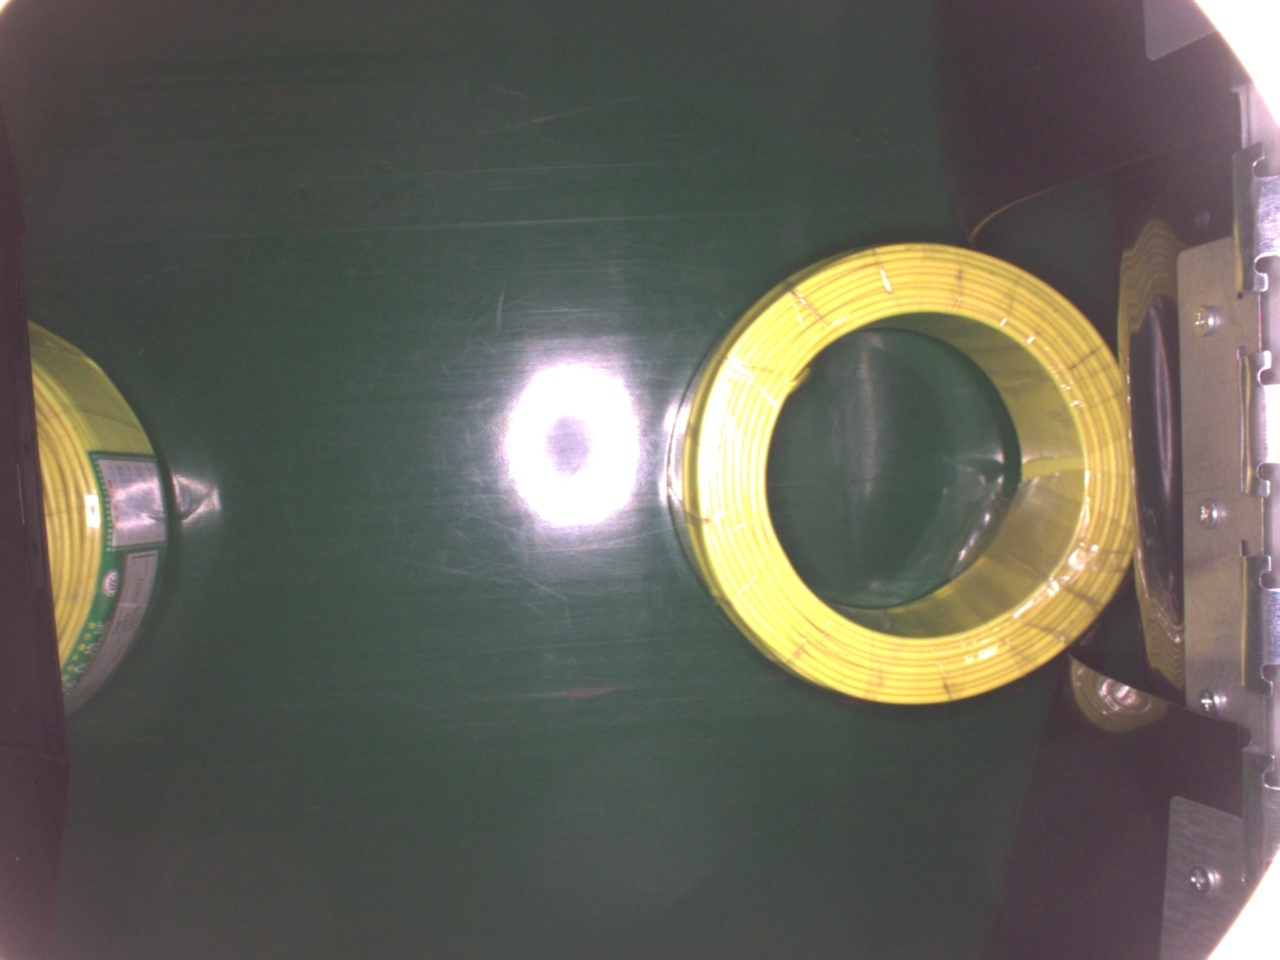yellow: (665, 233, 1139, 709), (32, 320, 172, 723)
